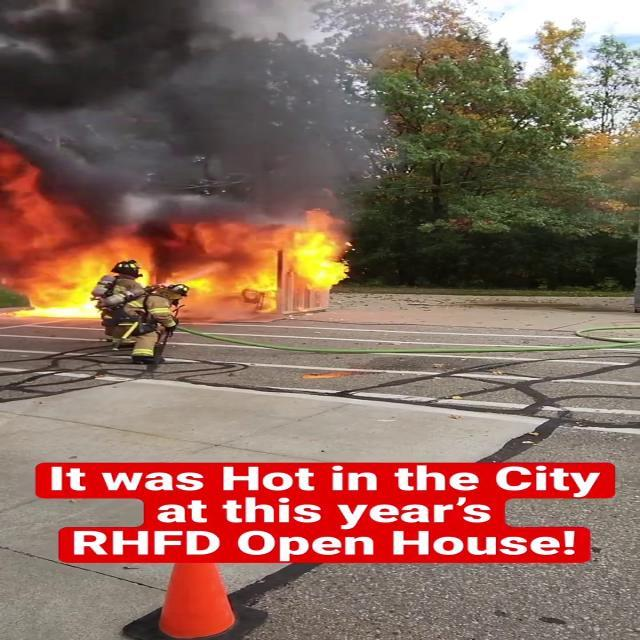Fire: (2, 213, 360, 320)
Smoke: (2, 1, 422, 220)
